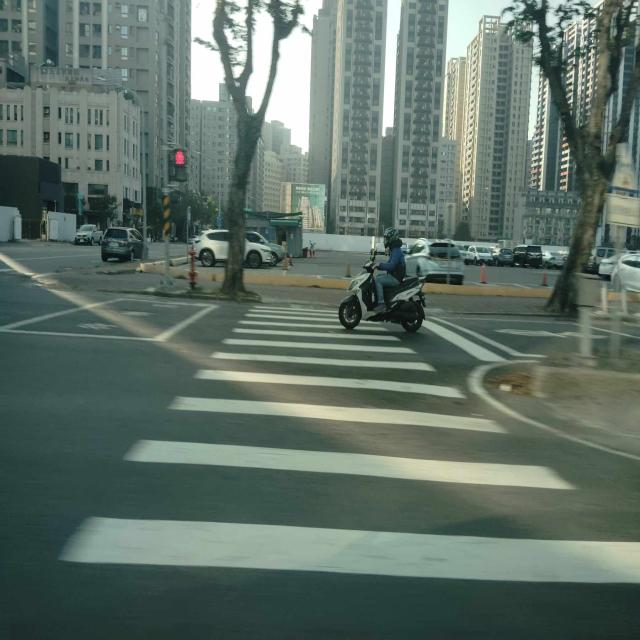person: (374, 227, 406, 314)
zebra crossing: (59, 301, 640, 581)
